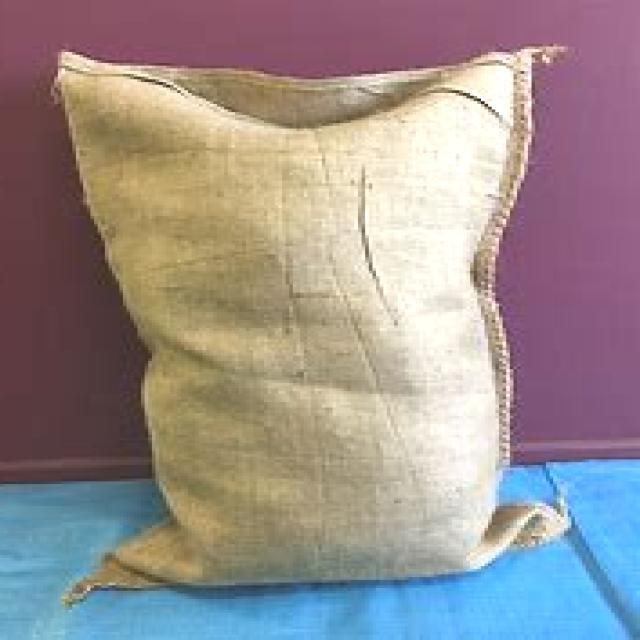gunny_bag: (53, 40, 580, 589)
